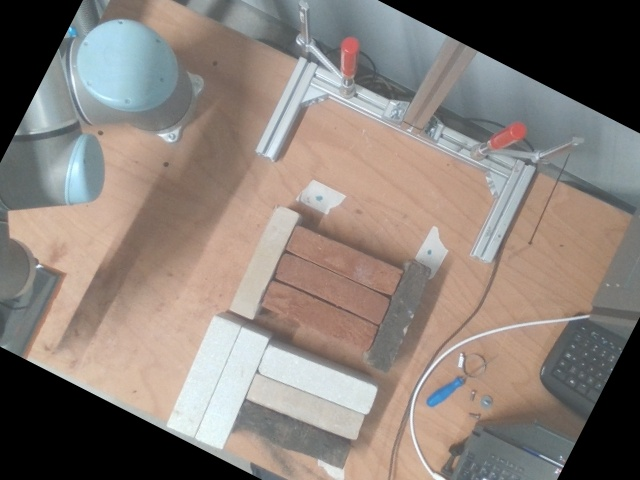brick-side: (166, 316, 241, 437), (256, 344, 378, 416), (195, 328, 267, 449), (227, 205, 300, 321), (361, 258, 433, 375), (286, 225, 401, 298), (262, 280, 378, 351), (274, 253, 388, 325), (245, 373, 365, 441), (237, 401, 353, 468)
